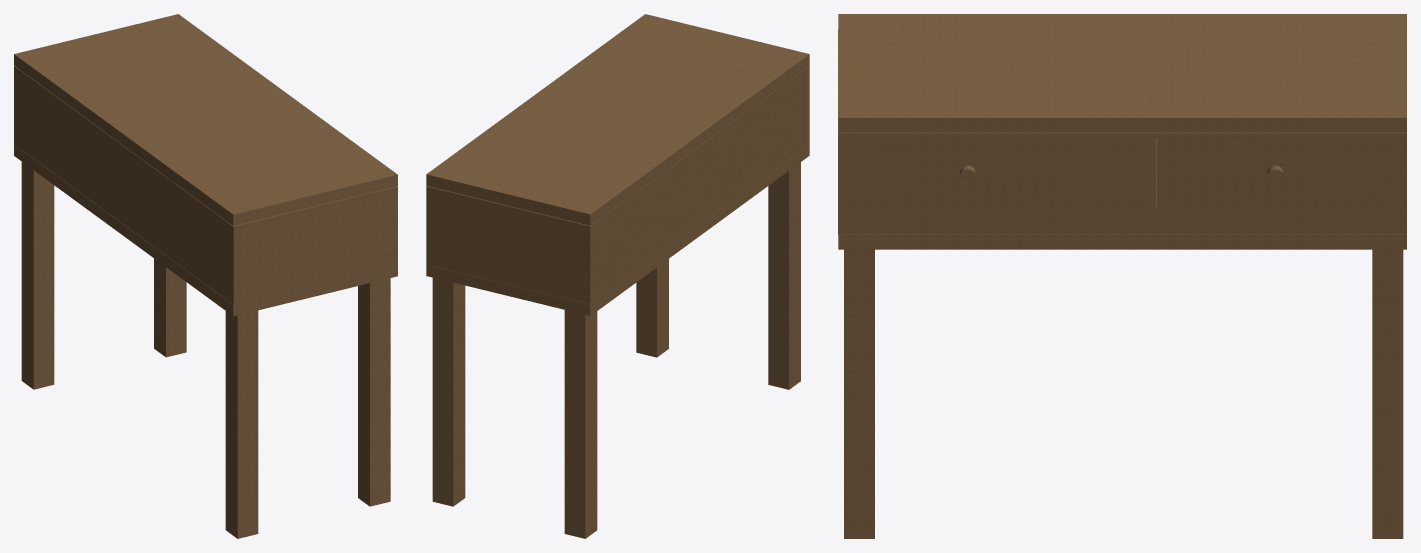
File: Komode blend.fbx
The picture shows the model from 3 angles, left to right: view 1: azimuth 30°, elevation 25°; view 2: azimuth 150°, elevation 25°; view 3: azimuth 270°, elevation 25°; orthographic projection. The views are drawn at different scales.
Parts seen in each view (by area): view 1: Cube.005; view 2: Cube.005; view 3: Cube.005.
Part boxes in pixels (bbox=[...]): Cube.005: bbox=[14, 14, 397, 538]; Cube.005: bbox=[426, 14, 809, 538]; Cube.005: bbox=[838, 14, 1406, 538].
Bounding box in the file's own units: 120 × 221 × 268.
1 material, 1 textured.
